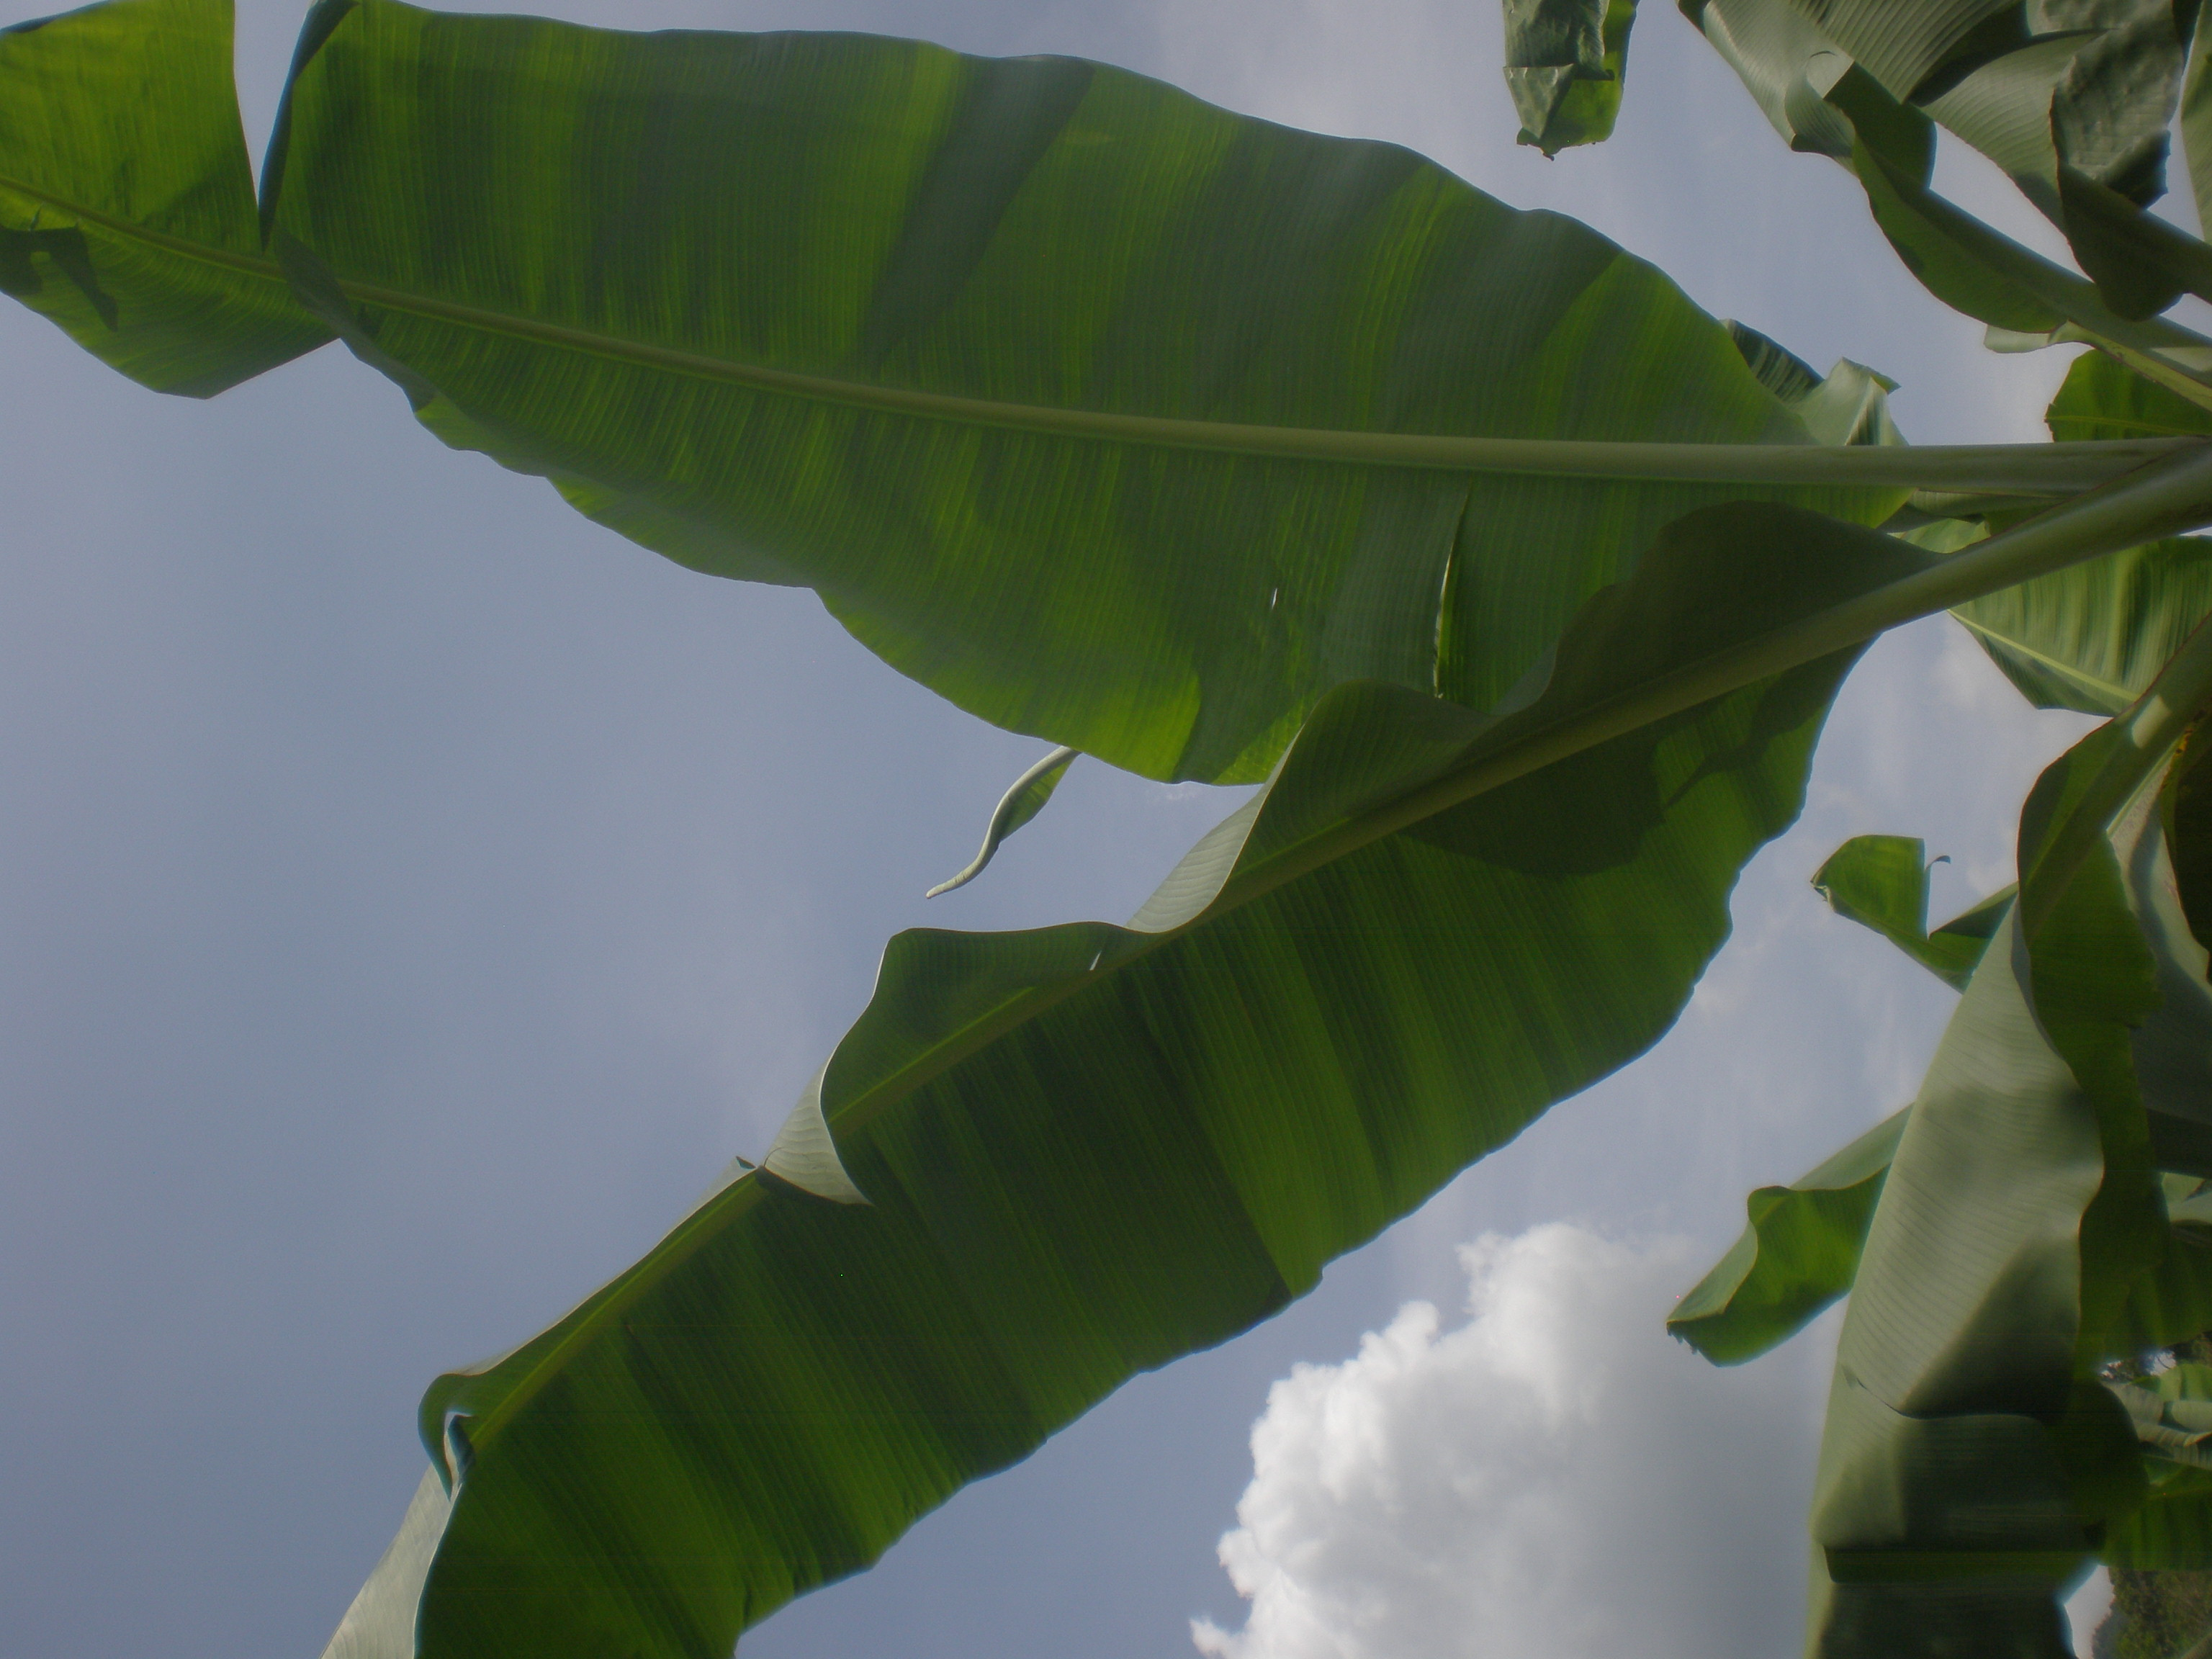candleleafs: (920, 746, 1080, 903)
